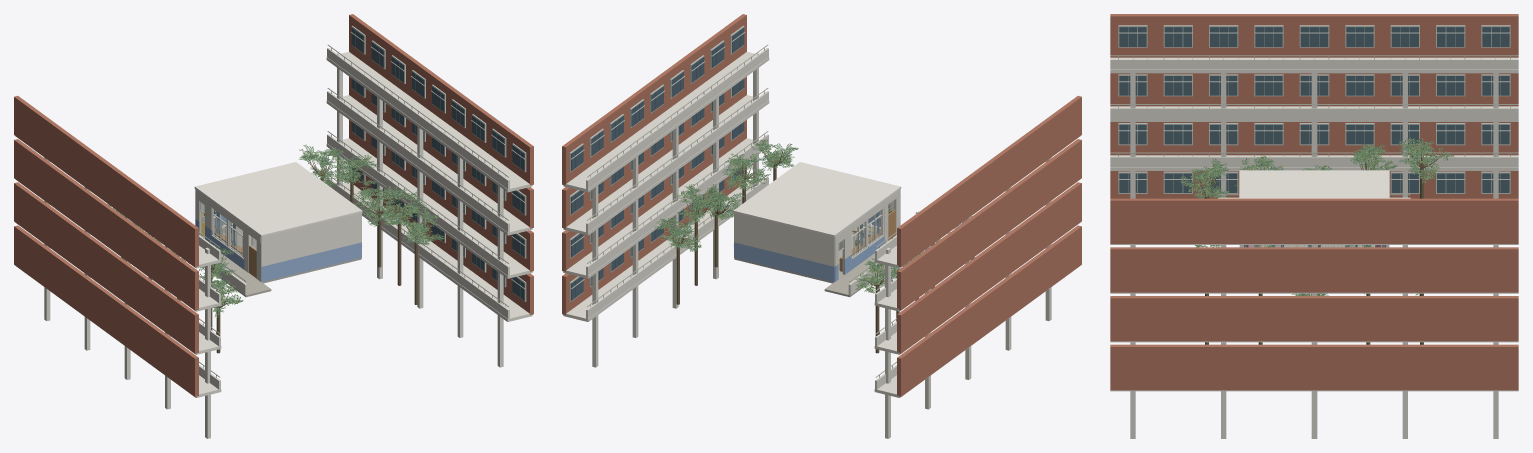
File: band-sax.glb
3 renders of one model, left to right at view 1: azimuth 30°, elevation 25°; view 2: azimuth 150°, elevation 25°; view 3: azimuth 270°, elevation 25°, orthographic. The views are drawn at different scales.
Parts seen in each view (by area): view 1: 窗外景深 · 对楼陶色窗间墙、廊板及绿荫.003, 房间 · 双侧窗洞、磨石地面与顶梁.003, Rear | open classroom doorway, transom and recess.003; view 2: 窗外景深 · 对楼陶色窗间墙、廊板及绿荫.003, 房间 · 双侧窗洞、磨石地面与顶梁.003, Rear | open classroom doorway, transom and recess.003; view 3: 窗外景深 · 对楼陶色窗间墙、廊板及绿荫.003, 房间 · 双侧窗洞、磨石地面与顶梁.003.
Boxes of the visible parts, box(x1,y1,x2,y2) form: 窗外景深 · 对楼陶色窗间墙、廊板及绿荫.003: box(14, 14, 533, 438); 房间 · 双侧窗洞、磨石地面与顶梁.003: box(194, 162, 362, 283); Rear | open classroom doorway, transom and recess.003: box(195, 189, 212, 243); 窗外景深 · 对楼陶色窗间墙、廊板及绿荫.003: box(562, 14, 1081, 438); 房间 · 双侧窗洞、磨石地面与顶梁.003: box(733, 162, 901, 283); Rear | open classroom doorway, transom and recess.003: box(834, 225, 851, 281); 窗外景深 · 对楼陶色窗间墙、廊板及绿荫.003: box(1110, 14, 1518, 438); 房间 · 双侧窗洞、磨石地面与顶梁.003: box(1239, 170, 1389, 247).
Bounding box in the file's own units: 28.74 × 17.95 × 26.55.
63 materials, 4 textured.
